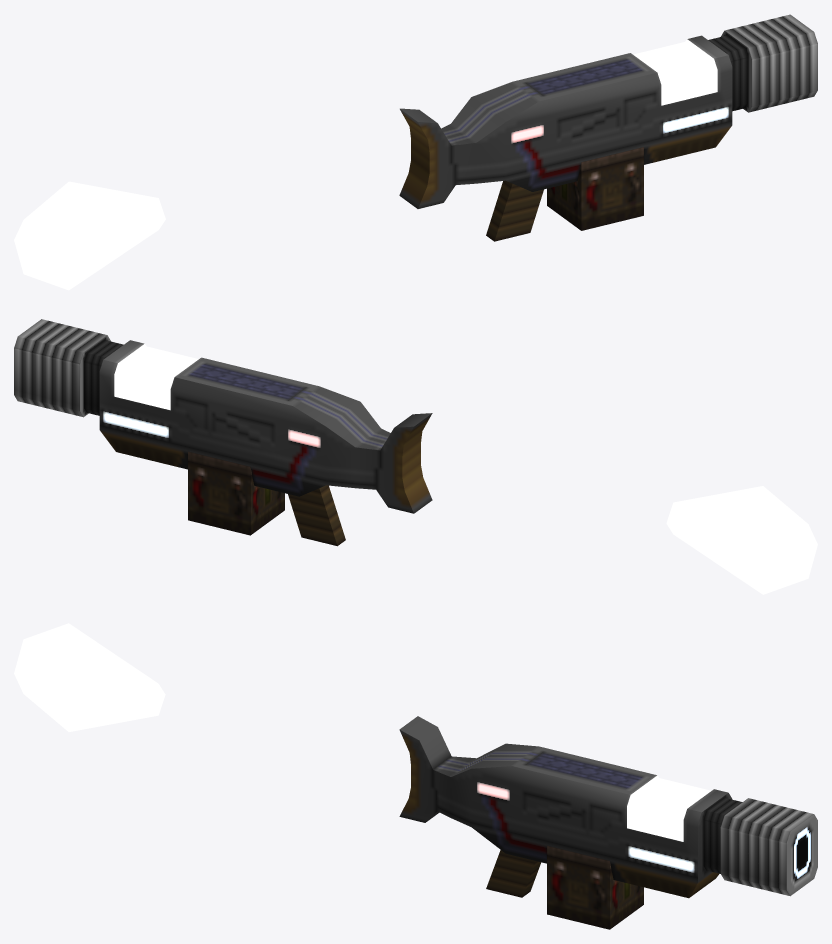
Rendered from v_plasma.fbx.
The picture shows the model from 3 angles, top to bottom: view 1: azimuth 30°, elevation 25°; view 2: azimuth 150°, elevation 25°; view 3: azimuth 330°, elevation 25°; orthographic projection.
Parts seen in each view (by area): view 1: Box001, muzzle; view 2: Box001, muzzle; view 3: Box001, muzzle.
Boxes of the visible parts, x1=… form: Box001: x1=399, y1=14, x2=817, y2=241; muzzle: x1=14, y1=181, x2=165, y2=290; Box001: x1=14, y1=319, x2=432, y2=546; muzzle: x1=666, y1=486, x2=817, y2=594; Box001: x1=399, y1=716, x2=817, y2=929; muzzle: x1=14, y1=623, x2=165, y2=731.
Size of the model in its own units: 236 by 46.32 by 20.15.
Materials: 1 (1 with a texture image).
